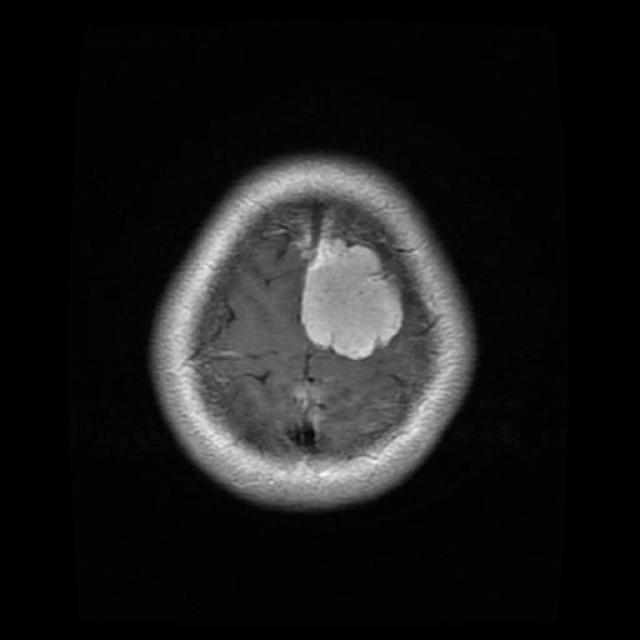meningioma: (301, 239, 404, 361)
